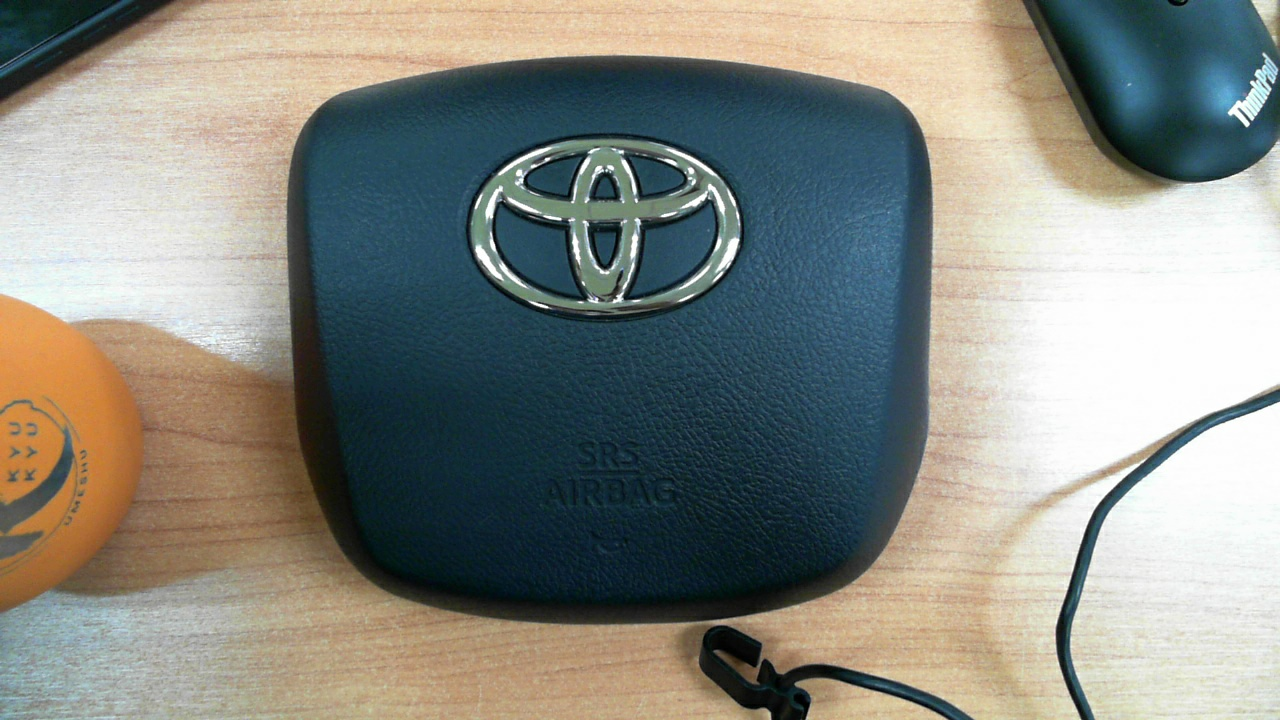Airbag: (244, 26, 944, 694)
